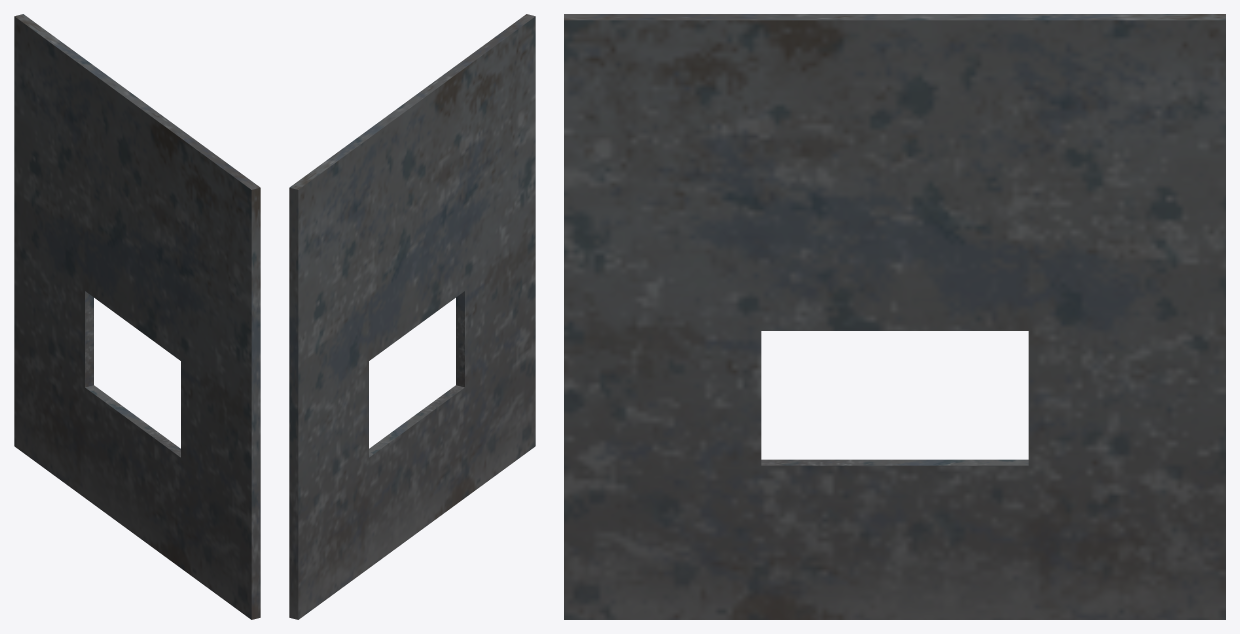
The model's file is WindowWallDarkGrey_SM.fbx.
The picture shows the model from 3 angles, left to right: view 1: azimuth 30°, elevation 25°; view 2: azimuth 150°, elevation 25°; view 3: azimuth 270°, elevation 25°; orthographic projection. The views are drawn at different scales.
Visible parts, largest first — view 1: WindowWall; view 2: WindowWall; view 3: WindowWall.
Part boxes in pixels (x1=…): WindowWall: x1=14, y1=14, x2=260, y2=619; WindowWall: x1=289, y1=14, x2=535, y2=619; WindowWall: x1=564, y1=14, x2=1225, y2=619.
Size of the model in its own units: 10 by 450 by 450.
Materials: 1 (1 with a texture image).
